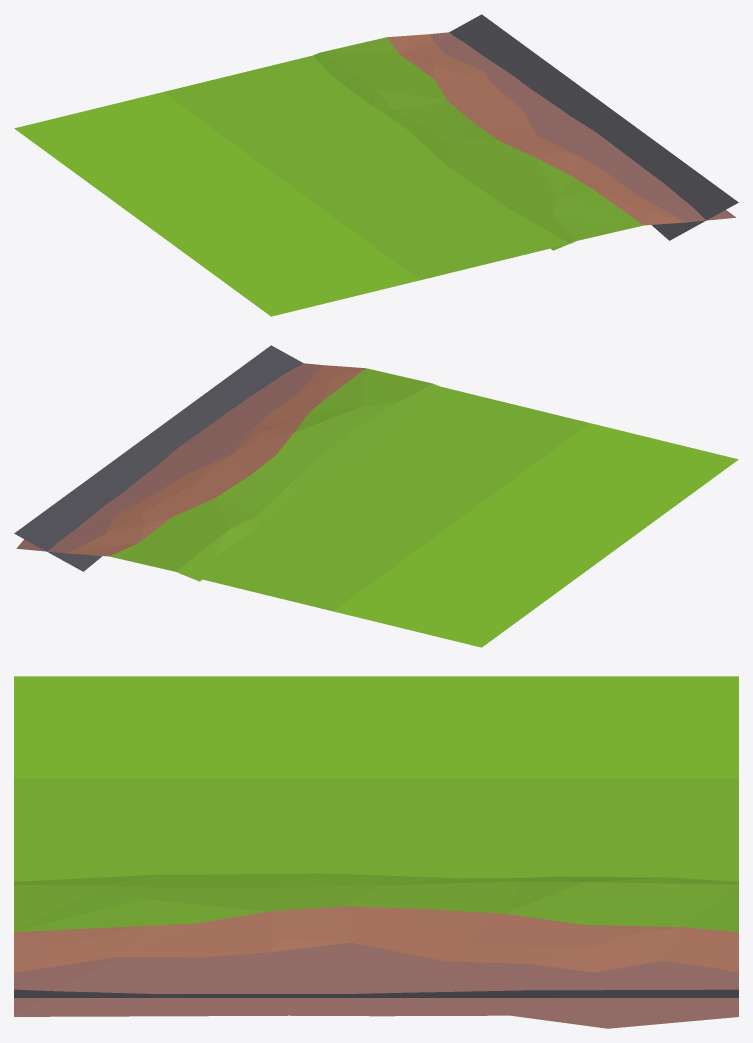
File: sidewalk_forest_1_1.fbx
The picture shows the model from 3 angles, top to bottom: view 1: azimuth 30°, elevation 25°; view 2: azimuth 150°, elevation 25°; view 3: azimuth 270°, elevation 25°; orthographic projection. The views are drawn at different scales.
Parts seen in each view (by area): view 1: sidewalk_forest_1_1; view 2: sidewalk_forest_1_1; view 3: sidewalk_forest_1_1.
Part boxes in pixels (x1=…): sidewalk_forest_1_1: x1=14, y1=14, x2=738, y2=316; sidewalk_forest_1_1: x1=14, y1=345, x2=738, y2=647; sidewalk_forest_1_1: x1=14, y1=676, x2=738, y2=1028.
Size of the model in its own units: 1080 by 59.21 by 1000.
